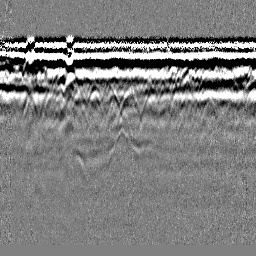cavity: (115, 84, 141, 126)
